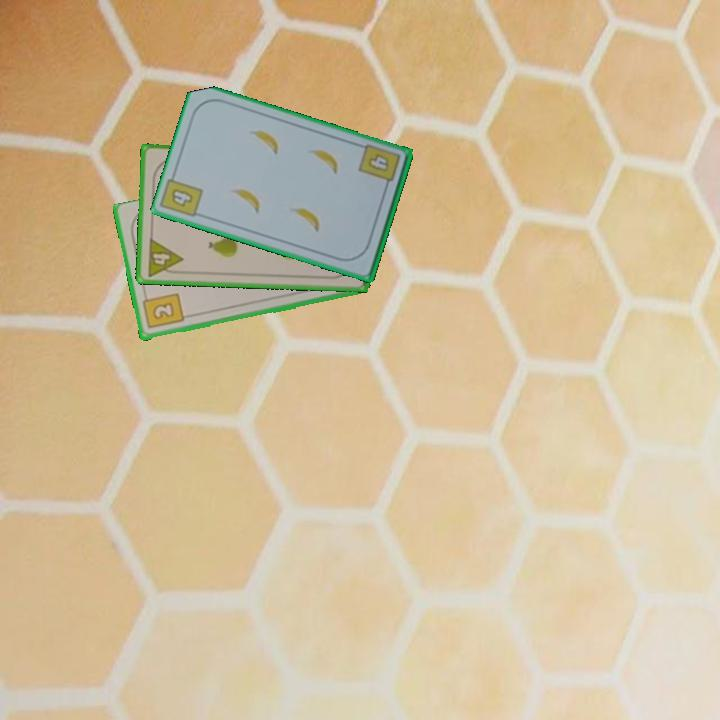2b: (139, 290, 186, 332)
4b: (356, 141, 403, 193), (168, 185, 196, 210)
4p: (144, 235, 185, 279)
